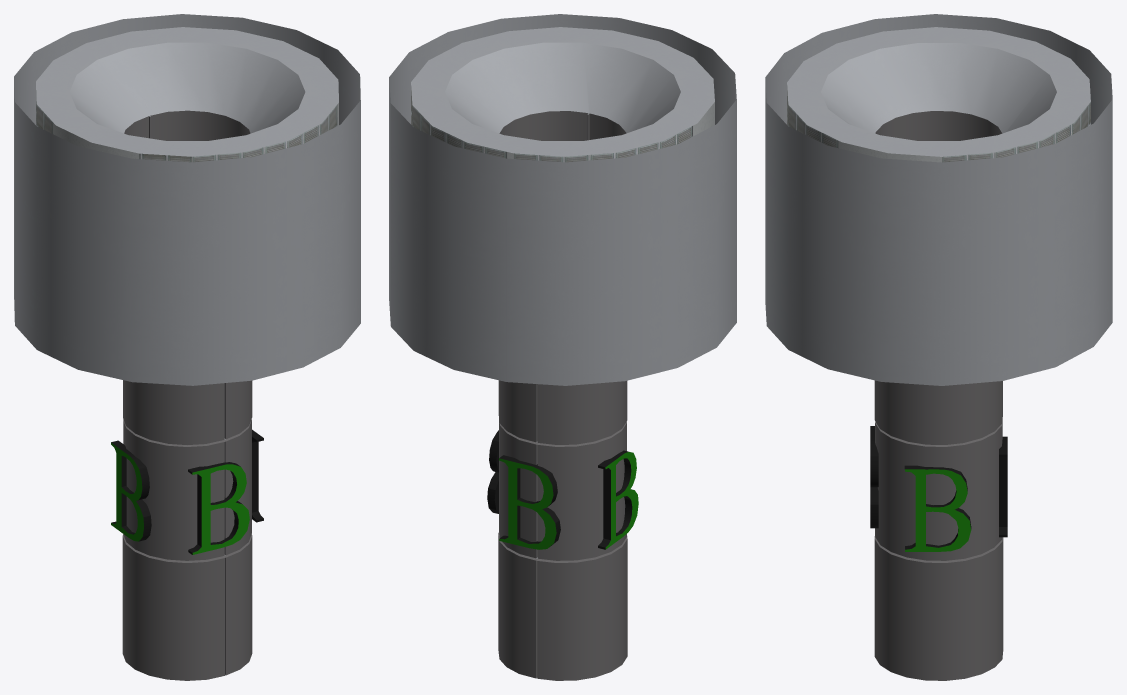
File: Circular structure B.fbx
The picture shows the model from 3 angles, left to right: view 1: azimuth 30°, elevation 25°; view 2: azimuth 150°, elevation 25°; view 3: azimuth 270°, elevation 25°; orthographic projection.
Visible parts, largest first — view 1: Circular Shape; view 2: Circular Shape; view 3: Circular Shape.
Part boxes in pixels (left/top/right/bottom): Circular Shape: left=14, top=14, right=360, bottom=680; Circular Shape: left=389, top=14, right=736, bottom=680; Circular Shape: left=765, top=14, right=1112, bottom=680.
Bounding box in the file's own units: 6.08 × 10.79 × 6.01.
